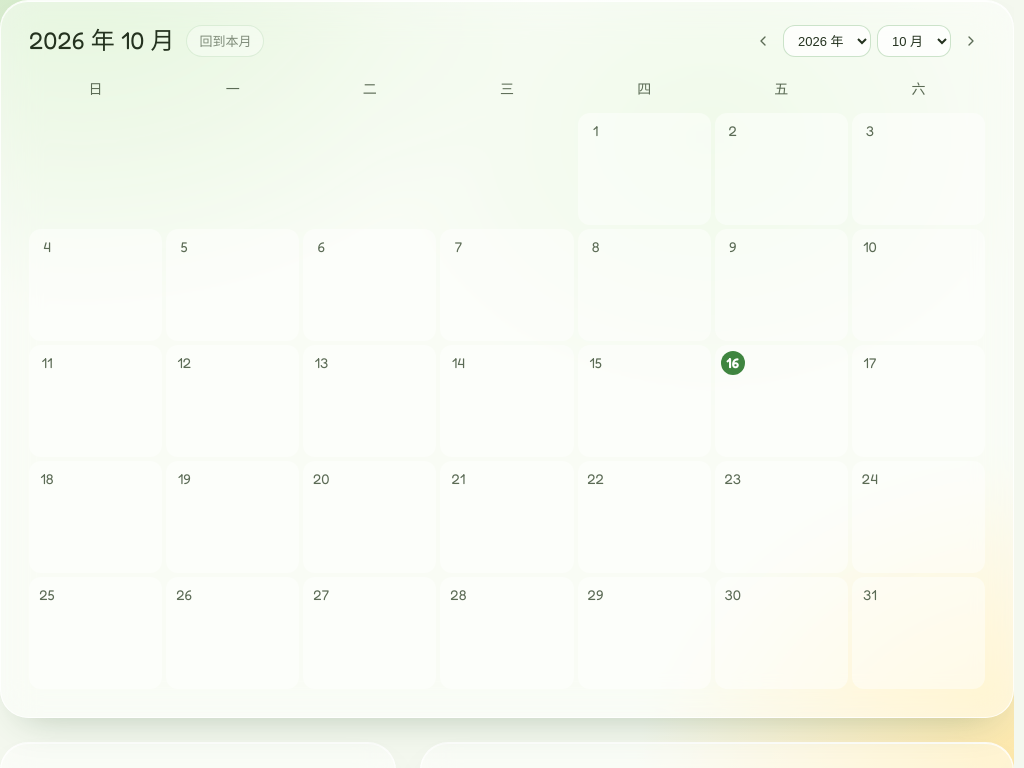
Scenario: CalendarSection › jumping back returns to the current month
The width and height of the screenshot is (1024, 768).
Click the button named "下個月" at [971, 41], box [957,27,985,55]
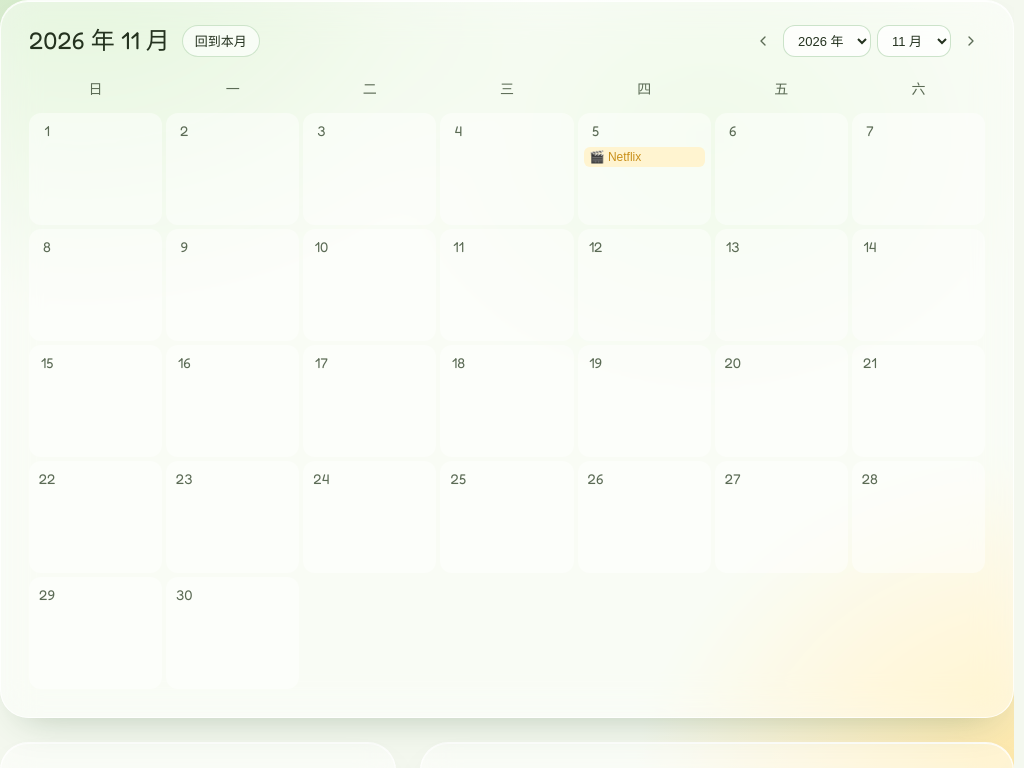
Click the button "回到本月" at [221, 41], box [182,25,260,57]
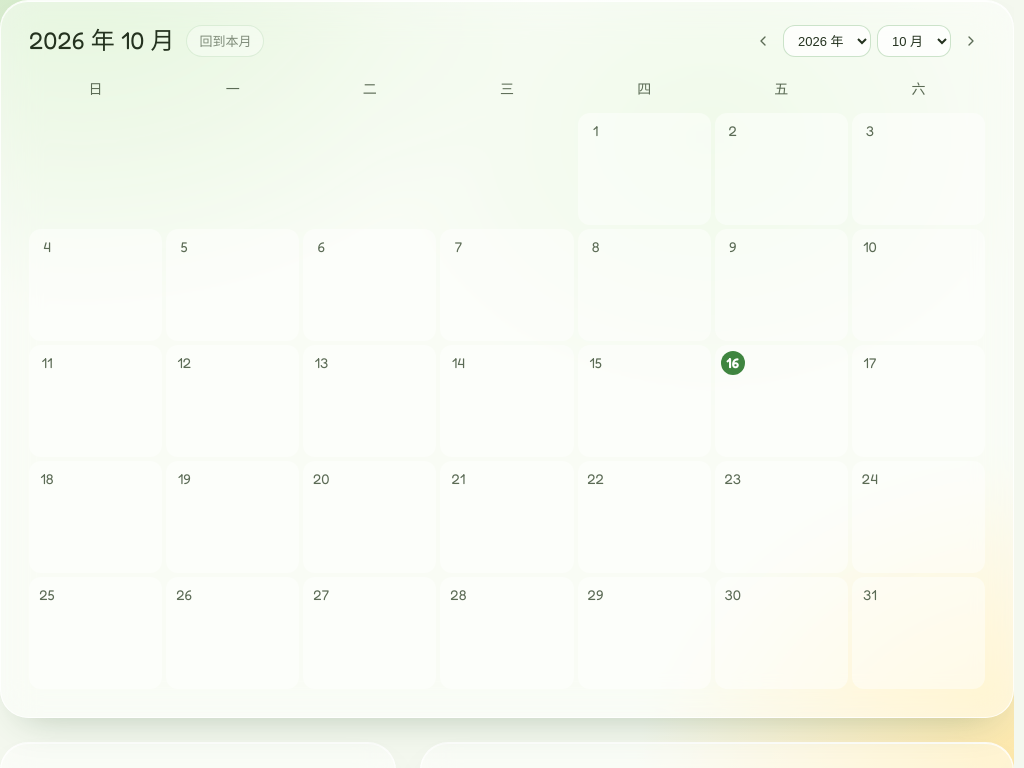
Now the heading "2026 年 10 月" is shown, box [29,25,174,57]
Now the button "回到本月" is disabled, box [186,25,264,57]
